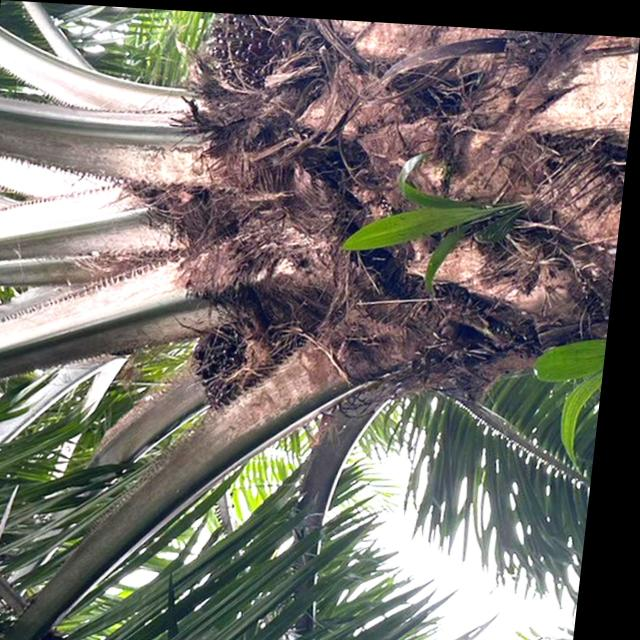unripe: (189, 300, 292, 423), (186, 9, 297, 109)
